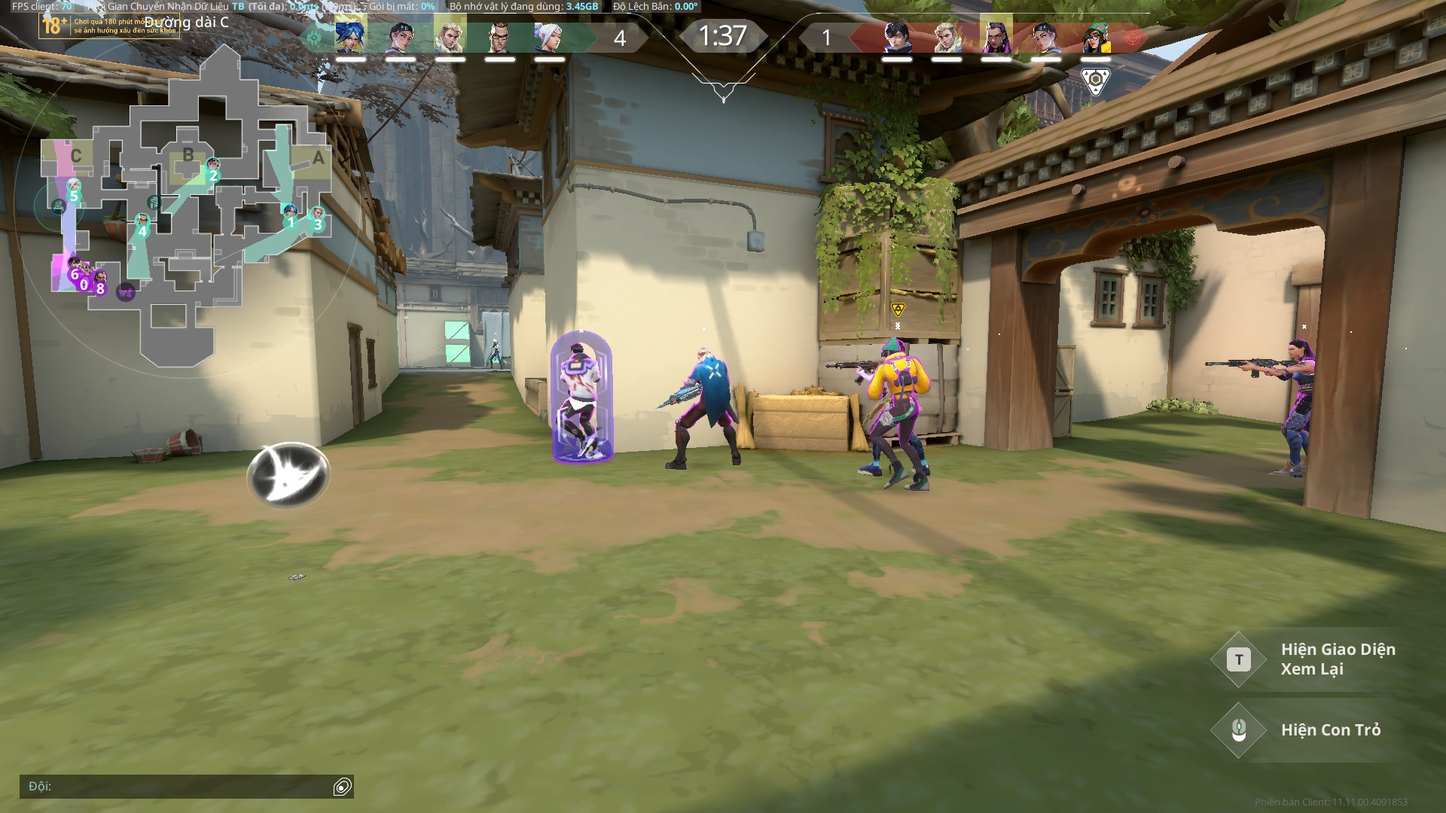body: (564, 355, 599, 397), (694, 360, 729, 399), (885, 364, 922, 396), (1295, 358, 1316, 400)
head: (1288, 339, 1305, 361), (884, 343, 898, 361), (697, 347, 712, 362), (571, 342, 584, 355), (898, 340, 908, 353)
